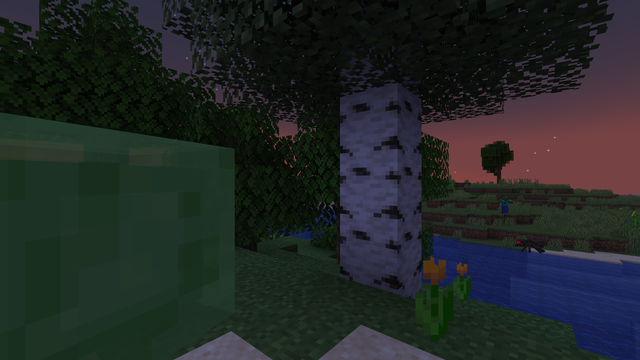araignees: (516, 236, 539, 253)
slimes: (8, 104, 236, 355)
zombies: (501, 195, 508, 214)
